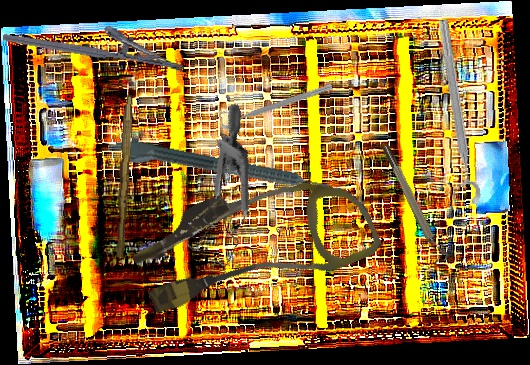Cannula: (123, 143, 385, 342)
Fixation Ring: (423, 18, 482, 208), (379, 141, 451, 266), (217, 74, 334, 131)
Handpiece: (112, 136, 331, 203)
Needle Holder: (2, 7, 189, 74)
Scalpel Handle: (115, 94, 133, 258)
Speculum: (144, 102, 293, 278)
